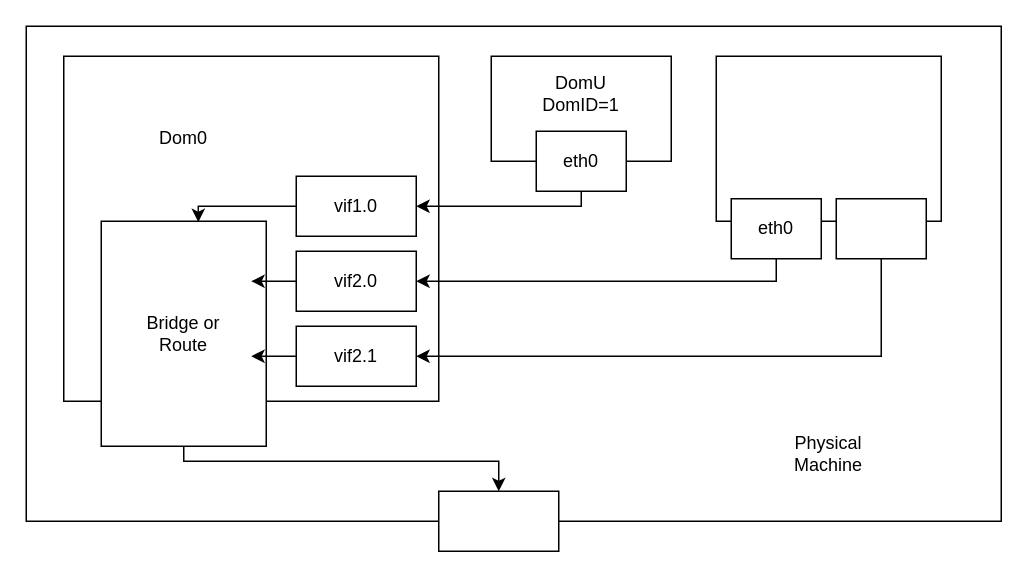
The diagram is 1028 pixels wide and 578 high, and some of its shapes have lost their labels. The centre of each missing label's shape, as x and y in pixels:
DomU DomID=2: [828,138]
eth1: [880,228]
NIC: [498,520]
